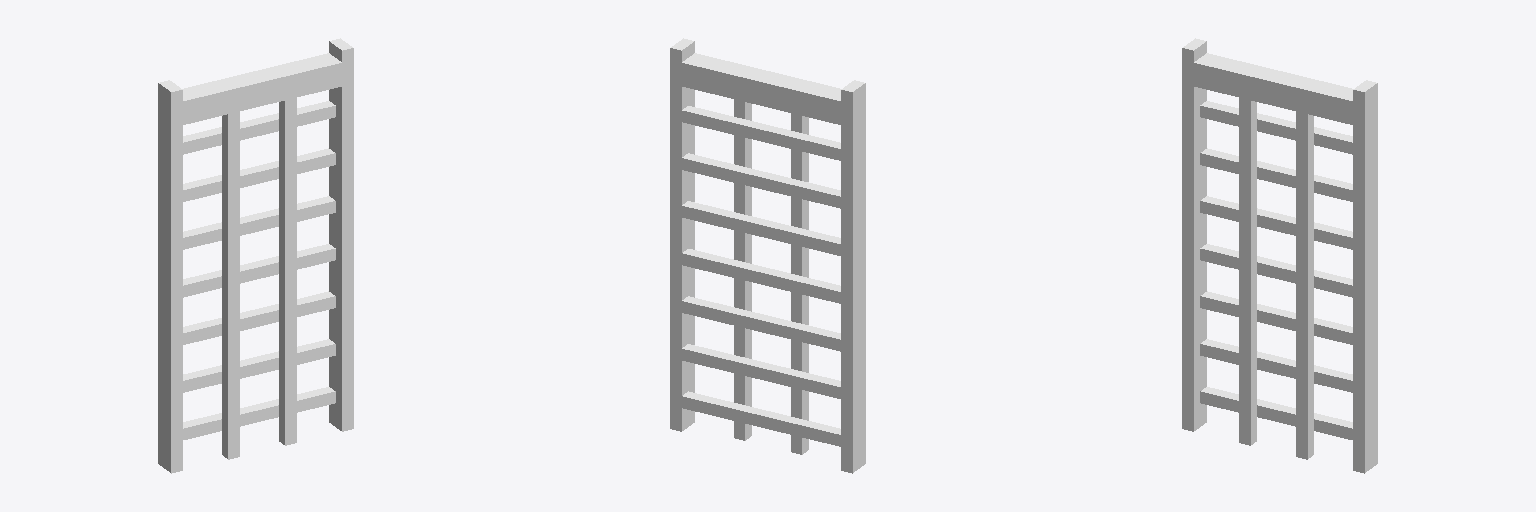
File: fence000(16,2,32).obj
The picture shows the model from 3 angles: view 1: azimuth 30°, elevation 25°; view 2: azimuth 150°, elevation 25°; view 3: azimuth 330°, elevation 25°; orthographic projection.
Size of the model in its own units: 16 by 32 by 2.